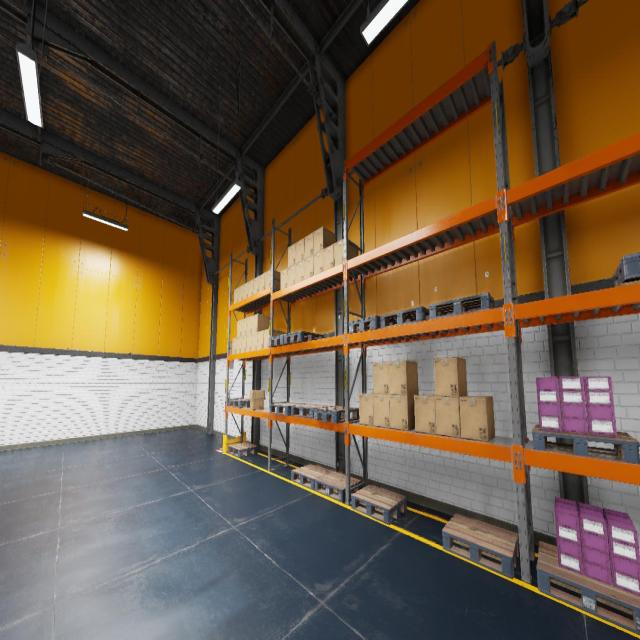box: (459, 396, 495, 441), (434, 357, 467, 396), (435, 396, 461, 438), (389, 360, 418, 395), (390, 394, 418, 430), (414, 395, 436, 434), (334, 239, 358, 265), (314, 226, 336, 254), (374, 394, 390, 428), (373, 362, 389, 394), (359, 393, 374, 425), (264, 329, 282, 348), (252, 314, 270, 333), (249, 390, 265, 409), (265, 269, 280, 289), (323, 244, 334, 270), (313, 249, 323, 275), (304, 232, 313, 259), (304, 255, 313, 279), (296, 238, 304, 263), (295, 260, 304, 282), (288, 243, 295, 267), (280, 268, 288, 289), (288, 264, 295, 286), (257, 330, 263, 350), (258, 272, 264, 292), (251, 332, 257, 351), (241, 318, 247, 336), (236, 320, 242, 338), (253, 276, 259, 294), (246, 334, 251, 352), (247, 316, 252, 334), (248, 279, 253, 297), (243, 282, 248, 299), (241, 336, 246, 352), (236, 337, 241, 353), (238, 285, 243, 301), (232, 338, 236, 354), (234, 288, 238, 304)
pallets: (536, 541, 640, 635), (442, 514, 519, 578), (532, 425, 640, 464), (351, 485, 407, 524), (429, 293, 495, 319), (314, 472, 361, 502), (380, 306, 429, 328), (291, 464, 333, 489), (612, 252, 640, 287), (314, 407, 359, 423), (348, 315, 381, 334), (291, 404, 332, 418), (284, 331, 324, 344), (269, 402, 306, 416), (228, 442, 257, 457), (268, 334, 290, 346), (228, 399, 250, 408)
